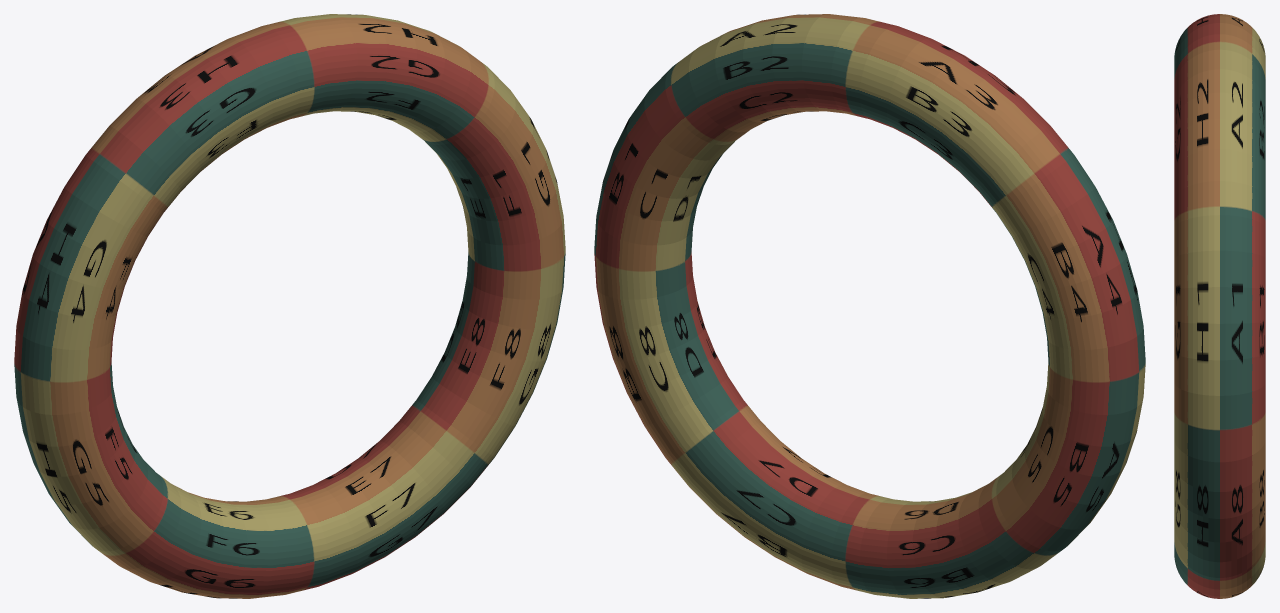
The model's file is texture_torus_R27_r12.glb.
3 views of the same model, side by side, from view 1: azimuth 30°, elevation 25°; view 2: azimuth 150°, elevation 25°; view 3: azimuth 270°, elevation 25° (orthographic). The views are drawn at different scales.
Parts seen in each view (by area): view 1: world; view 2: world; view 3: world.
Boxes of the visible parts, x1,y1,x2,y2 form: world: (14,14,565,598); world: (594,14,1145,598); world: (1174,14,1265,598).
Bounding box in the file's own units: 33.2 × 33.13 × 5.19.
1 material, 1 textured.
